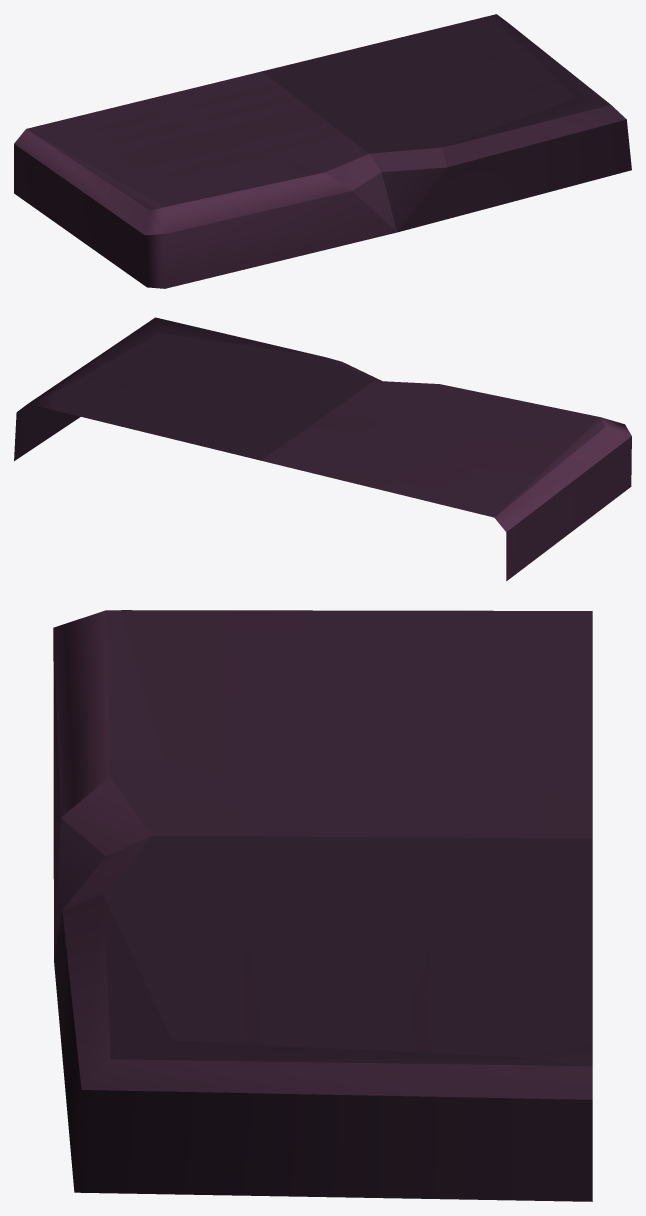
Rendered from floor_pit_edge_alt_2.fbx.
3 renders of one model, top to bottom at view 1: azimuth 30°, elevation 25°; view 2: azimuth 150°, elevation 25°; view 3: azimuth 270°, elevation 25°, orthographic. The views are drawn at different scales.
Visible parts, largest first — view 1: floor_pit_edge_alt_2; view 2: floor_pit_edge_alt_2; view 3: floor_pit_edge_alt_2.
Part boxes in pixels (box(x1,y1,x2,y2)): floor_pit_edge_alt_2: box(14, 14, 631, 288); floor_pit_edge_alt_2: box(14, 317, 631, 581); floor_pit_edge_alt_2: box(53, 610, 592, 1201).
Bounding box in the file's own units: 211 × 28.16 × 100.
